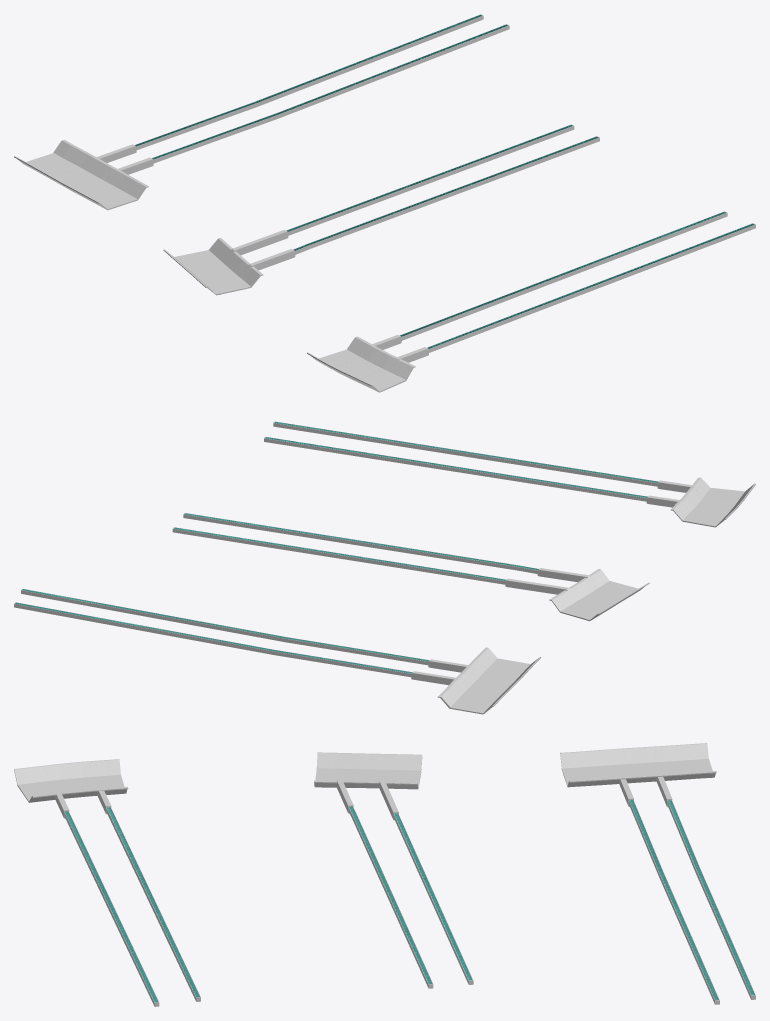
Rendered from 500125-CSSP001-780-XX-MD-ST-000216.glb.
3 renders of one model, top to bottom at view 1: azimuth 30°, elevation 25°; view 2: azimuth 150°, elevation 25°; view 3: azimuth 270°, elevation 25°, orthographic. The views are drawn at different scales.
Visible parts, largest first — view 1: 500125-CSSP001-780-XX-MD-ST-000216#OTR001, 500125-CSSP001-780-XX-MD-ST-000216#SUM001, 500125-CSSP001-780-XX-MD-ST-000216#SUM003, 500125-CSSP001-780-XX-MD-ST-000216#SUM002; view 2: 500125-CSSP001-780-XX-MD-ST-000216#OTR001, 500125-CSSP001-780-XX-MD-ST-000216#SUM001, 500125-CSSP001-780-XX-MD-ST-000216#SUM003, 500125-CSSP001-780-XX-MD-ST-000216#SUM002; view 3: 500125-CSSP001-780-XX-MD-ST-000216#OTR001, 500125-CSSP001-780-XX-MD-ST-000216#SUM001, 500125-CSSP001-780-XX-MD-ST-000216#SUM003, 500125-CSSP001-780-XX-MD-ST-000216#SUM002.
Boxes of the visible parts, x1=… form: 500125-CSSP001-780-XX-MD-ST-000216#OTR001: x1=14, y1=14, x2=755, y2=392; 500125-CSSP001-780-XX-MD-ST-000216#SUM001: x1=135, y1=15, x2=507, y2=159; 500125-CSSP001-780-XX-MD-ST-000216#SUM003: x1=400, y1=211, x2=754, y2=348; 500125-CSSP001-780-XX-MD-ST-000216#SUM002: x1=286, y1=125, x2=598, y2=250; 500125-CSSP001-780-XX-MD-ST-000216#OTR001: x1=14, y1=421, x2=755, y2=714; 500125-CSSP001-780-XX-MD-ST-000216#SUM001: x1=15, y1=589, x2=429, y2=673; 500125-CSSP001-780-XX-MD-ST-000216#SUM003: x1=265, y1=422, x2=658, y2=497; 500125-CSSP001-780-XX-MD-ST-000216#SUM002: x1=174, y1=513, x2=538, y2=580; 500125-CSSP001-780-XX-MD-ST-000216#OTR001: x1=14, y1=743, x2=755, y2=1006; 500125-CSSP001-780-XX-MD-ST-000216#SUM001: x1=629, y1=800, x2=754, y2=1000; 500125-CSSP001-780-XX-MD-ST-000216#SUM003: x1=65, y1=807, x2=199, y2=1002; 500125-CSSP001-780-XX-MD-ST-000216#SUM002: x1=349, y1=806, x2=472, y2=984.
Bounding box in the file's own units: 90.04 × 3.85 × 107.
